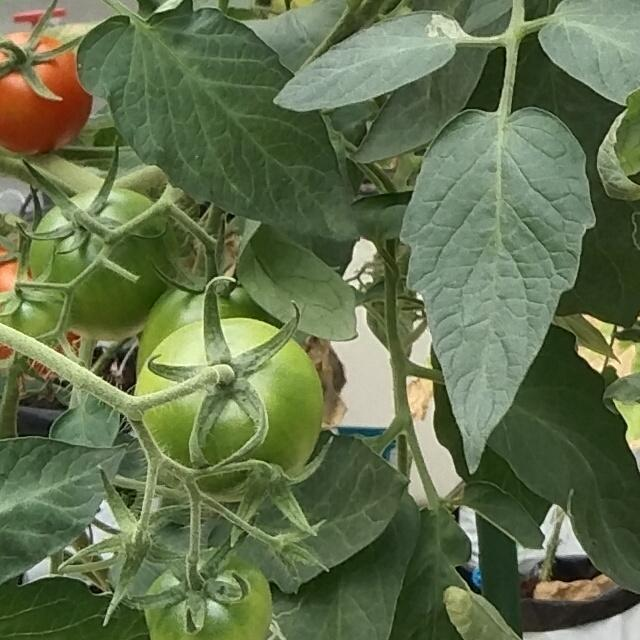Healthy: (398, 98, 598, 479), (75, 3, 367, 248)
Leaf_Miner: (274, 9, 462, 112)
